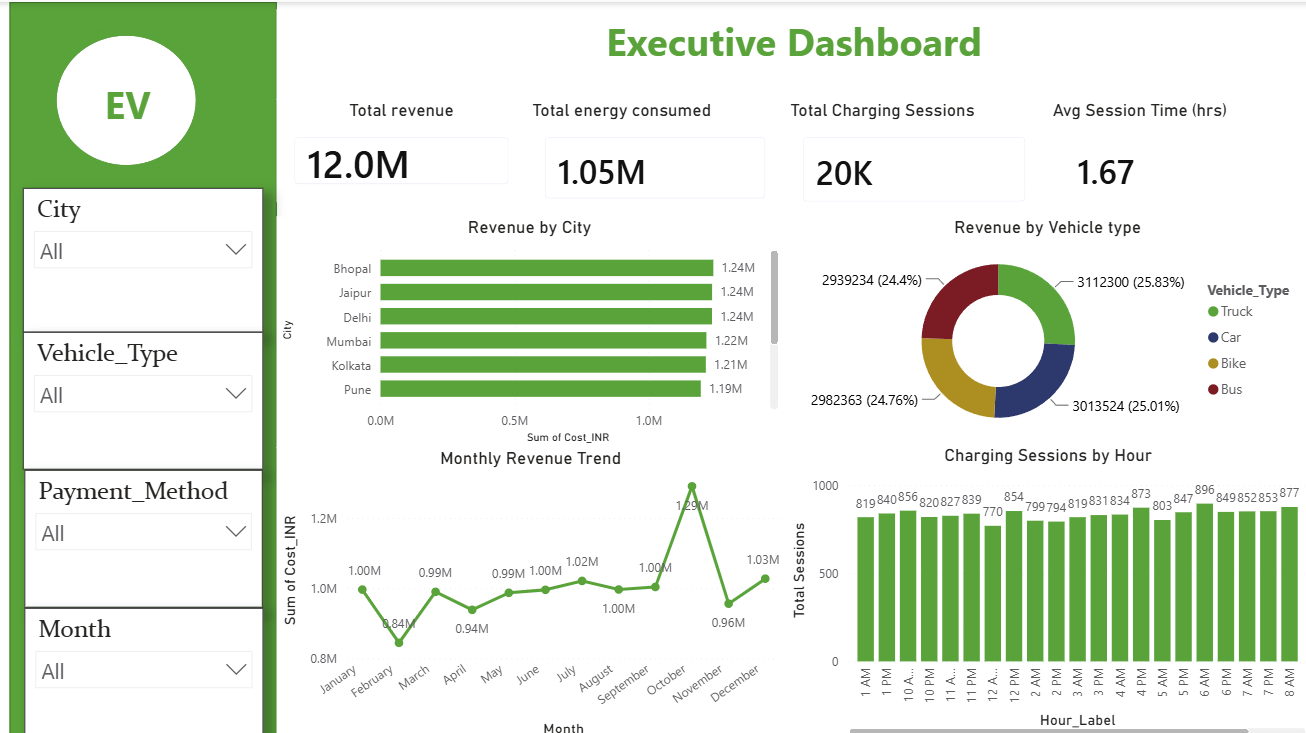

This screenshot's page, from the dashboard's own definition file:
{"tool":"powerbi","page":{"name":"Executive Dashboard","canvas":[1280,720],"ordinal":0},"visuals":[{"type":"shape","box":[9.9,0,260.4,719.2],"z":0},{"type":"textbox","box":[271,7.6,1008.5,87.8],"z":1},{"type":"cardVisual","title":"Total revenue","fields":{"Data":["Sum(EV_Charging_Final.Cost_INR)"]},"box":[271,95.4,243.8,99.9],"z":2},{"type":"cardVisual","title":"Total energy consumed","fields":{"Data":["Sum(EV_Charging_Final.Energy_Consumed_kWh)"]},"box":[514.8,95.4,249.8,113.6],"z":3},{"type":"cardVisual","title":"Total Charging Sessions","fields":{"Data":["EV_Charging_Final.Total Sessions"]},"box":[766.2,95.4,251.4,116.6],"z":4},{"type":"cardVisual","title":"Avg Session Time (hrs)","fields":{"Data":["Avg(EV_Charging_Final.Session_hours)"]},"box":[1022.1,95.4,252.9,116.6],"z":5},{"type":"slicer","fields":{"Values":["EV_Charging_Final.City"]},"box":[23.7,181.6,233.7,140.5],"z":6},{"type":"slicer","fields":{"Values":["EV_Charging_Final.Vehicle_Type"]},"box":[23.7,322.1,233.7,134.2],"z":7},{"type":"slicer","fields":{"Values":["EV_Charging_Final.Payment_Method"]},"box":[25.3,456.3,232.1,134.2],"z":8},{"type":"slicer","fields":{"Values":["EV_Charging_Final.Month"]},"box":[24.8,590.4,232.4,128.6],"z":9},{"type":"shape","box":[47.8,24.2,151.4,142],"z":11},{"type":"textbox","box":[1065.3,209,213.5,95.4],"z":12},{"type":"textbox","box":[97.8,68.1,74.2,62.1],"z":13},{"type":"donutChart","title":"Revenue by Vehicle type","fields":{"Category":["EV_Charging_Final.Vehicle_Type"],"Y":["Sum(EV_Charging_Final.Cost_INR)"]},"box":[764.7,209,514.8,222.6],"z":14},{"type":"clusteredBarChart","title":"Revenue by City","fields":{"Y":["Sum(EV_Charging_Final.Cost_INR)"],"Category":["EV_Charging_Final.City"]},"box":[271,209,493.6,225.6],"z":15},{"type":"columnChart","title":"Charging  Sessions by Hour","fields":{"Y":["EV_Charging_Final.Total Sessions"],"Category":["EV_Charging_Final.Hour_Label"]},"box":[766.1,431.1,513,289],"z":16},{"type":"lineChart","title":"Monthly Revenue Trend","fields":{"Category":["EV_Charging_Final.Month"],"Y":["Sum(EV_Charging_Final.Cost_INR)"]},"box":[271,434.6,495.1,286.2],"z":17}]}

Visuals, with their boxes in screenshot pixels (x1, y1, x2, y2), scaled from the page's 1280x720 canvas onto the 1306x733 screenshot:
shape: pyautogui.locateOnScreen(10, 0, 276, 732)
textbox: pyautogui.locateOnScreen(277, 8, 1305, 97)
"Total revenue" cardVisual: pyautogui.locateOnScreen(277, 97, 525, 199)
"Total energy consumed" cardVisual: pyautogui.locateOnScreen(525, 97, 780, 213)
"Total Charging Sessions" cardVisual: pyautogui.locateOnScreen(782, 97, 1038, 216)
"Avg Session Time (hrs)" cardVisual: pyautogui.locateOnScreen(1043, 97, 1301, 216)
slicer - EV_Charging_Final.City: pyautogui.locateOnScreen(24, 185, 263, 328)
slicer - EV_Charging_Final.Vehicle_Type: pyautogui.locateOnScreen(24, 328, 263, 465)
slicer - EV_Charging_Final.Payment_Method: pyautogui.locateOnScreen(26, 465, 263, 601)
slicer - EV_Charging_Final.Month: pyautogui.locateOnScreen(25, 601, 262, 732)
shape: pyautogui.locateOnScreen(49, 25, 203, 169)
textbox: pyautogui.locateOnScreen(1087, 213, 1305, 310)
textbox: pyautogui.locateOnScreen(100, 69, 175, 133)
"Revenue by Vehicle type" donutChart: pyautogui.locateOnScreen(780, 213, 1305, 439)
"Revenue by City" clusteredBarChart: pyautogui.locateOnScreen(277, 213, 780, 442)
"Charging  Sessions by Hour" columnChart: pyautogui.locateOnScreen(782, 439, 1305, 732)
"Monthly Revenue Trend" lineChart: pyautogui.locateOnScreen(277, 442, 782, 732)
